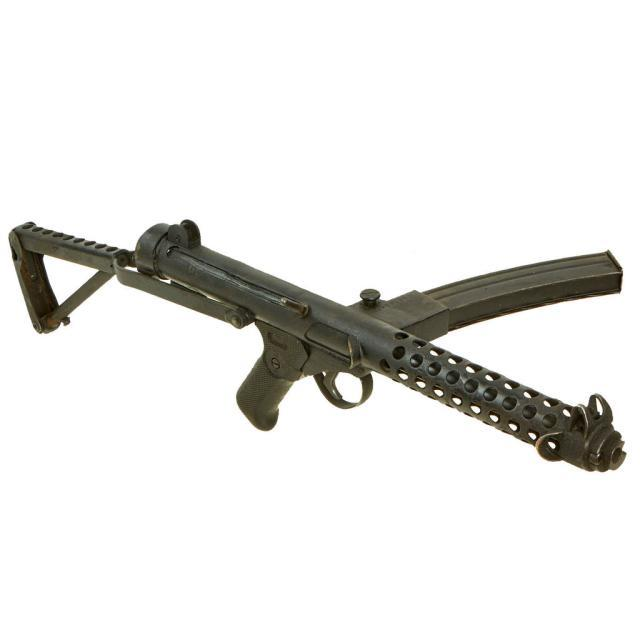rifle: (5, 201, 640, 495)
